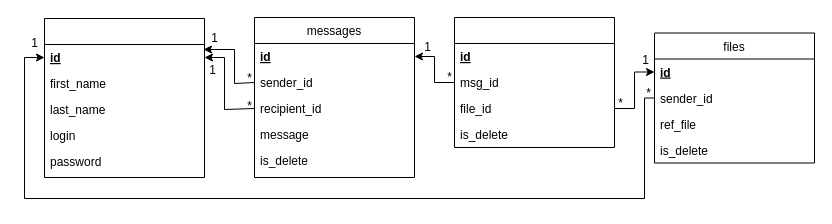
The diagram is 832 pixels wide and 224 high, and some of its shapes have lost their labels. Here are the shapes that lost their labels. From the top down, the box of each, then its label:
(44, 18, 204, 178): users
(454, 16, 614, 148): msgs_to_files
